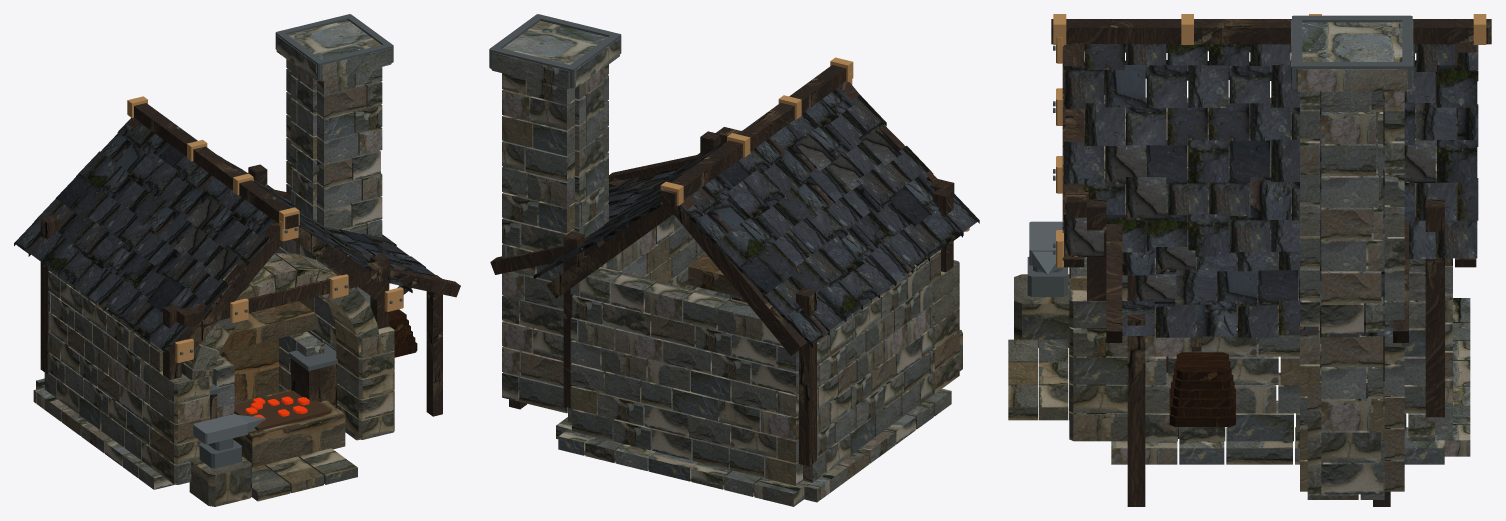
Rendered from forge.glb.
3 views of the same model, side by side, from view 1: azimuth 30°, elevation 25°; view 2: azimuth 150°, elevation 25°; view 3: azimuth 270°, elevation 25° (orthographic). The views are drawn at different scales.
Parts seen in each view (by area): view 1: R58_Granite.004, R58_Slate.004, R58_Timber.004, R58_Accent.004, R58_Fire.004; view 2: R58_Granite.004, R58_Slate.004, R58_Timber.004, R58_Accent.004; view 3: R58_Granite.004, R58_Slate.004, R58_Timber.004, R58_Accent.004.
Boxes of the visible parts, x1,y1,x2,y2 form: R58_Granite.004: (33, 20, 394, 506); R58_Slate.004: (14, 118, 441, 353); R58_Timber.004: (40, 103, 460, 461); R58_Accent.004: (127, 14, 403, 468); R58_Fire.004: (245, 396, 309, 420); R58_Granite.004: (491, 20, 962, 506); R58_Slate.004: (533, 87, 979, 347); R58_Timber.004: (490, 65, 954, 466); R58_Accent.004: (489, 14, 969, 299); R58_Granite.004: (1008, 20, 1470, 499); R58_Slate.004: (1064, 44, 1478, 337); R58_Timber.004: (1051, 19, 1491, 506); R58_Accent.004: (1027, 14, 1486, 352).
Bounding box in the file's own units: 6.29 × 6.18 × 6.05.
5 materials, 3 textured.
